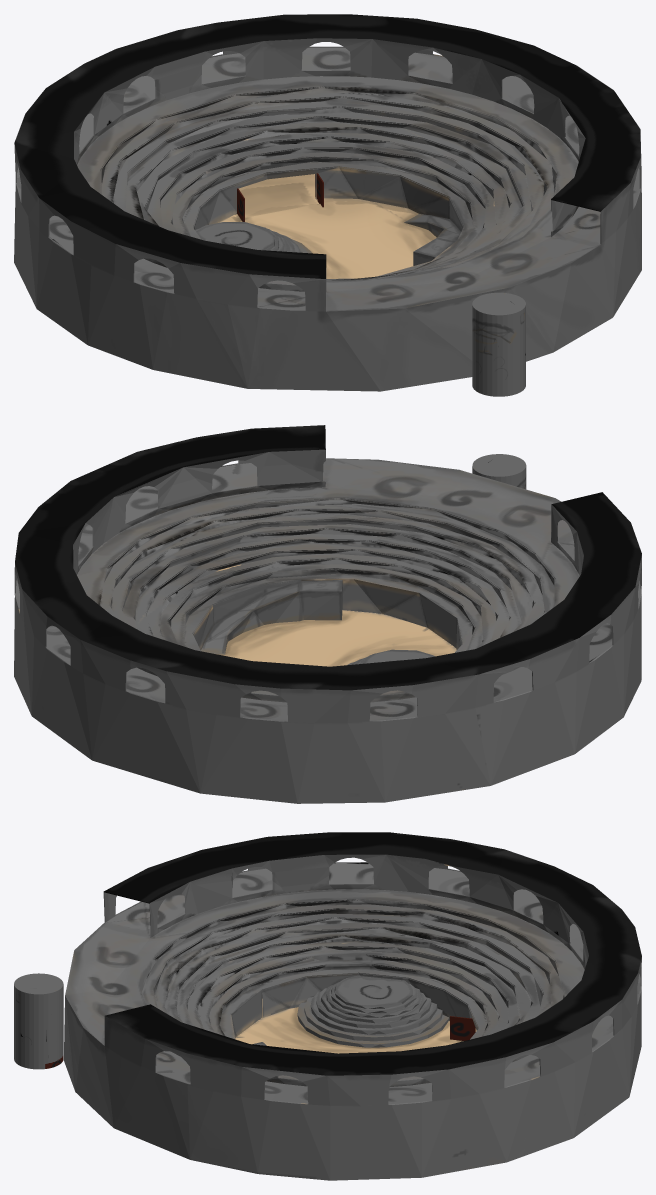
Rendered from stadium.fbx.
3 views of the same model, one above another, from view 1: azimuth 30°, elevation 25°; view 2: azimuth 150°, elevation 25°; view 3: azimuth 270°, elevation 25° (orthographic). The views are drawn at different scales.
Parts seen in each view (by area): view 1: stadium, Cylinder; view 2: stadium, Cylinder; view 3: stadium, Cylinder.
Boxes of the visible parts, x1,y1,x2,y2 form: stadium: [14, 14, 641, 391]; Cylinder: [472, 292, 525, 396]; stadium: [14, 425, 641, 803]; Cylinder: [472, 454, 526, 489]; stadium: [63, 832, 641, 1180]; Cylinder: [14, 973, 63, 1069].
Size of the model in its own units: 11456 by 2340 by 12465.
2 materials, 2 textured.
